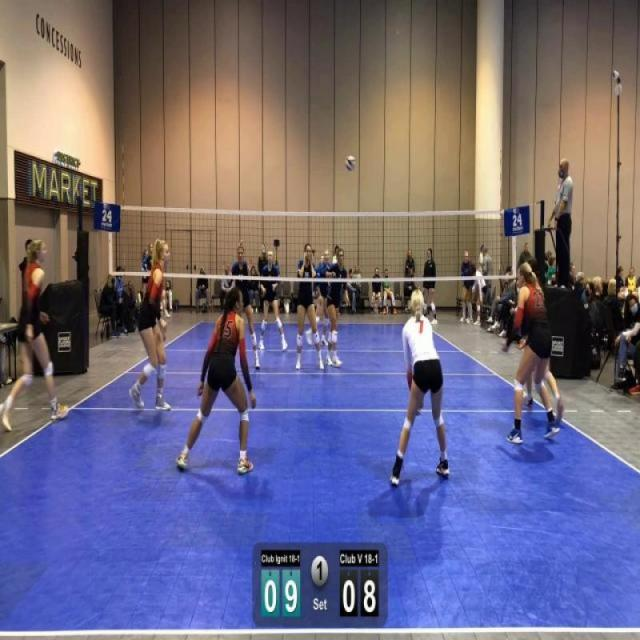volleyball: (344, 152, 357, 174)
